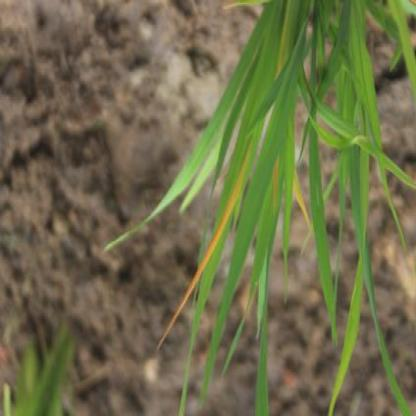Tungro: (161, 55, 302, 347)
